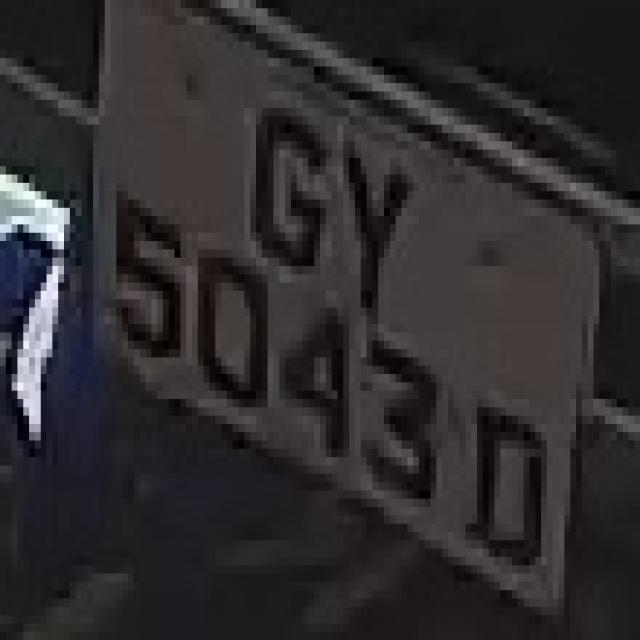0: (180, 216, 274, 432)
3: (360, 308, 460, 540)
4: (268, 258, 355, 490)
5: (105, 166, 186, 374)
D: (459, 366, 558, 606)
G: (238, 75, 326, 291)
Y: (332, 108, 424, 324)
